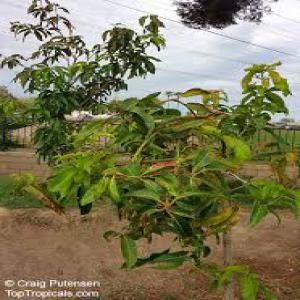Tree: (13, 6, 281, 281)
